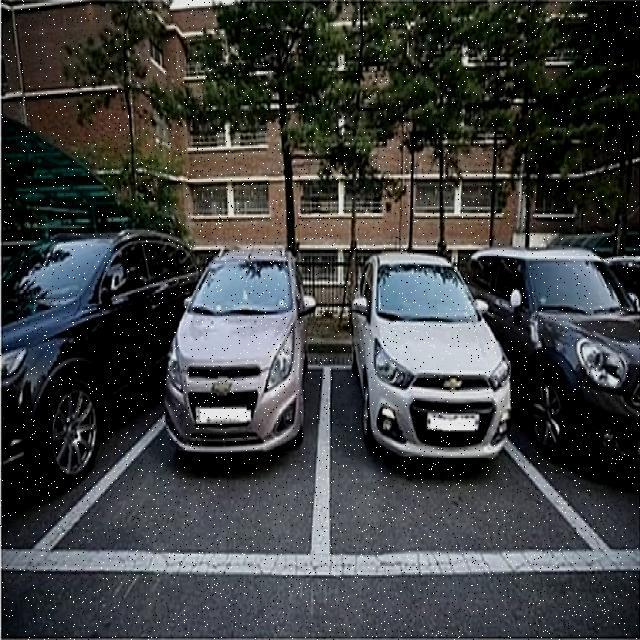occupied: (333, 236, 540, 500), (160, 231, 322, 538), (2, 218, 154, 522), (534, 235, 640, 512)
